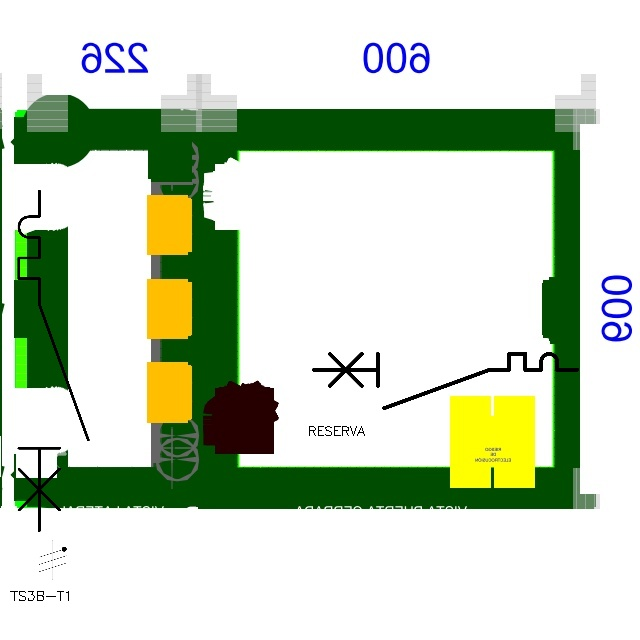interruptor_termomagnetico: (10, 182, 97, 539), (307, 347, 584, 415)
